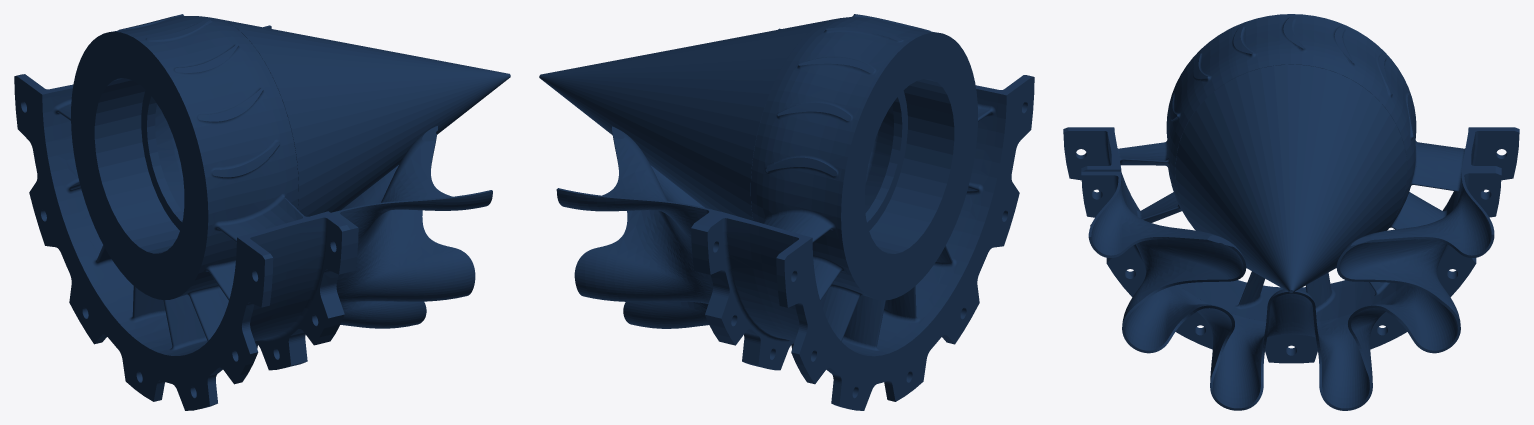
Rendered from Exhaust.glb.
3 renders of one model, left to right at view 1: azimuth 30°, elevation 25°; view 2: azimuth 150°, elevation 25°; view 3: azimuth 270°, elevation 25°, orthographic. The views are drawn at different scales.
Parts seen in each view (by area): view 1: Assembled Exhaust Section; view 2: Assembled Exhaust Section; view 3: Assembled Exhaust Section.
Part boxes in pixels (<box>): Assembled Exhaust Section: <box>14,14,510,410</box>; Assembled Exhaust Section: <box>539,14,1034,410</box>; Assembled Exhaust Section: <box>1063,14,1519,410</box>.
Bounding box in the file's own units: 112 × 102 × 131.
